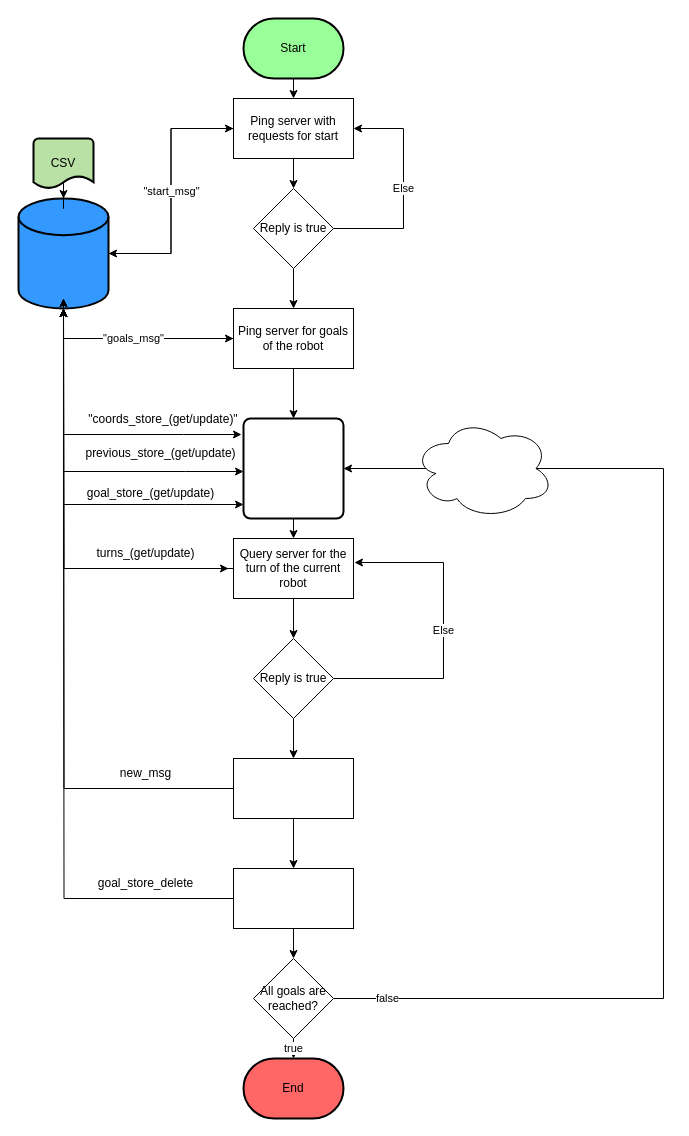
Some shapes in this 689 by 1136 pixel diagram are drawn without their labels. Each missing label, with the box of its shape:
Compute the next move of the robot: (242, 417, 344, 519)
If a goal is reached: (232, 868, 354, 928)
Send robot location to server: (232, 758, 354, 818)
Server: (17, 197, 109, 309)
Specifics of computing next move are given in 4D: (412, 418, 554, 518)
